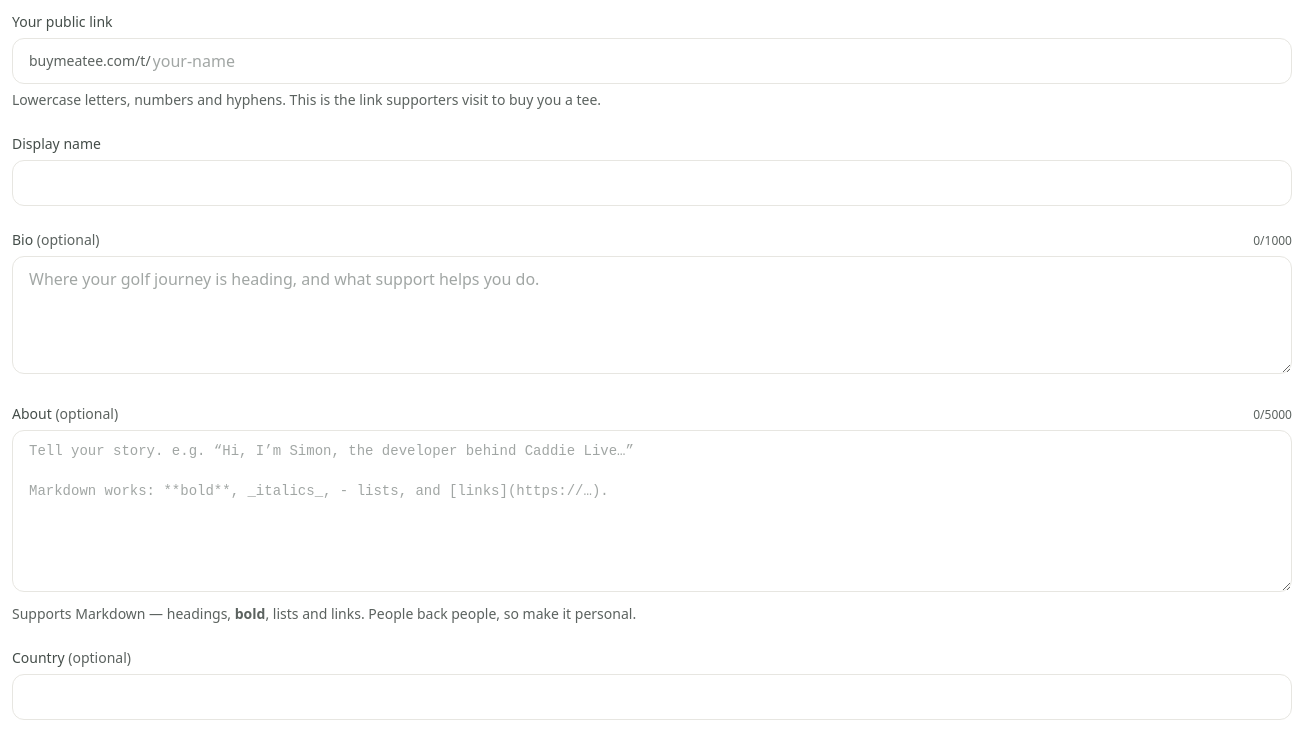
Test case: ProfileForm › counts bio characters live
Type "On tour." into the text box labelled "Bio (optional)" at coordinates (652, 315), box x1=12 y1=256 x2=1292 y2=374
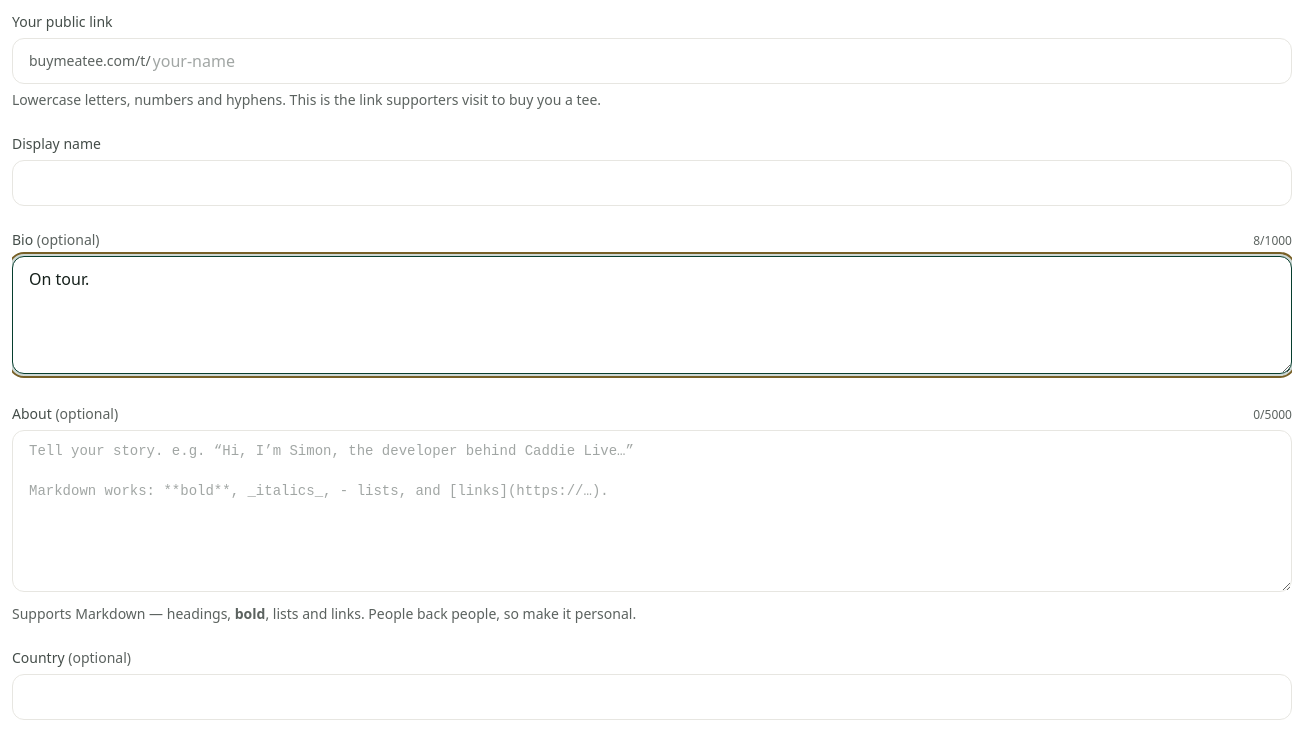
expect the text "8/1000" is shown: met, box x1=1253 y1=233 x2=1292 y2=249
